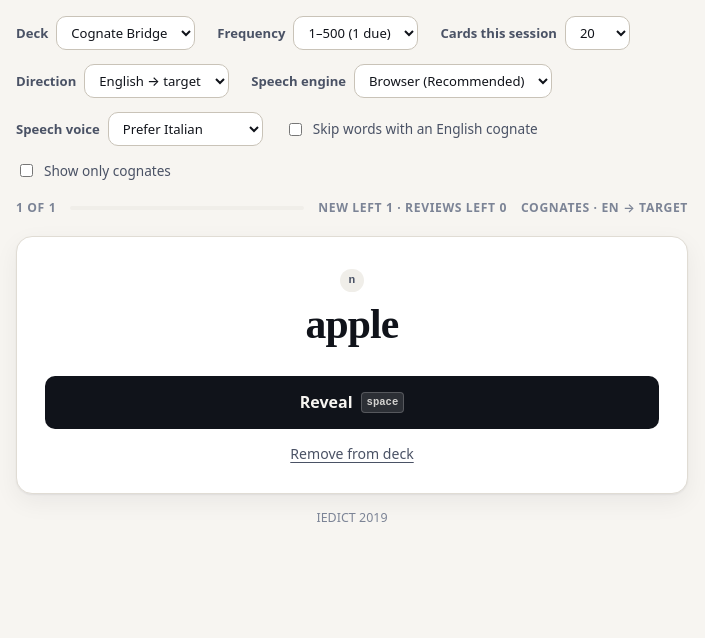
Test: StudyPage › applies the chosen direction to tier-2 cards as well
Expected: the heading "apple" is shown, [306,300,398,350]
Click the button "Reveal space" at {"x": 352, "y": 403}, box [45,376,659,429]
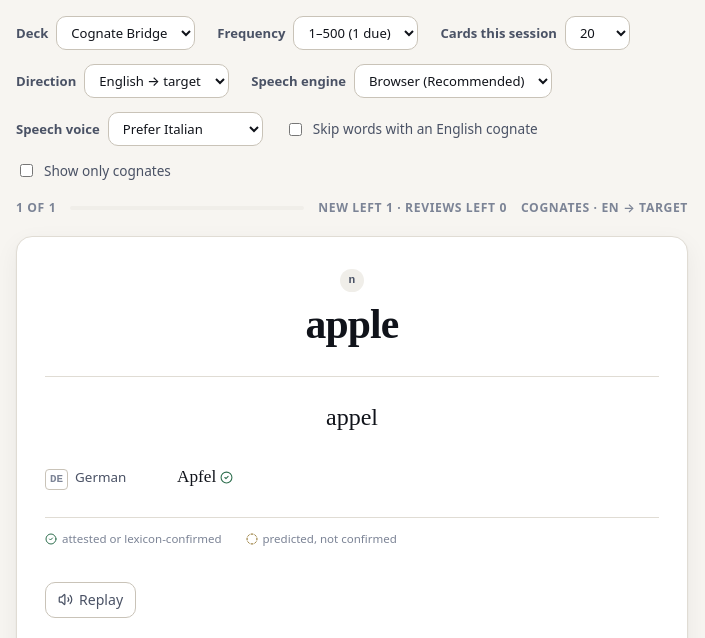
Now the text "appel" is shown, box [326,404,378,430]
Now the text "Apfel" is shown, box [177,464,233,491]
